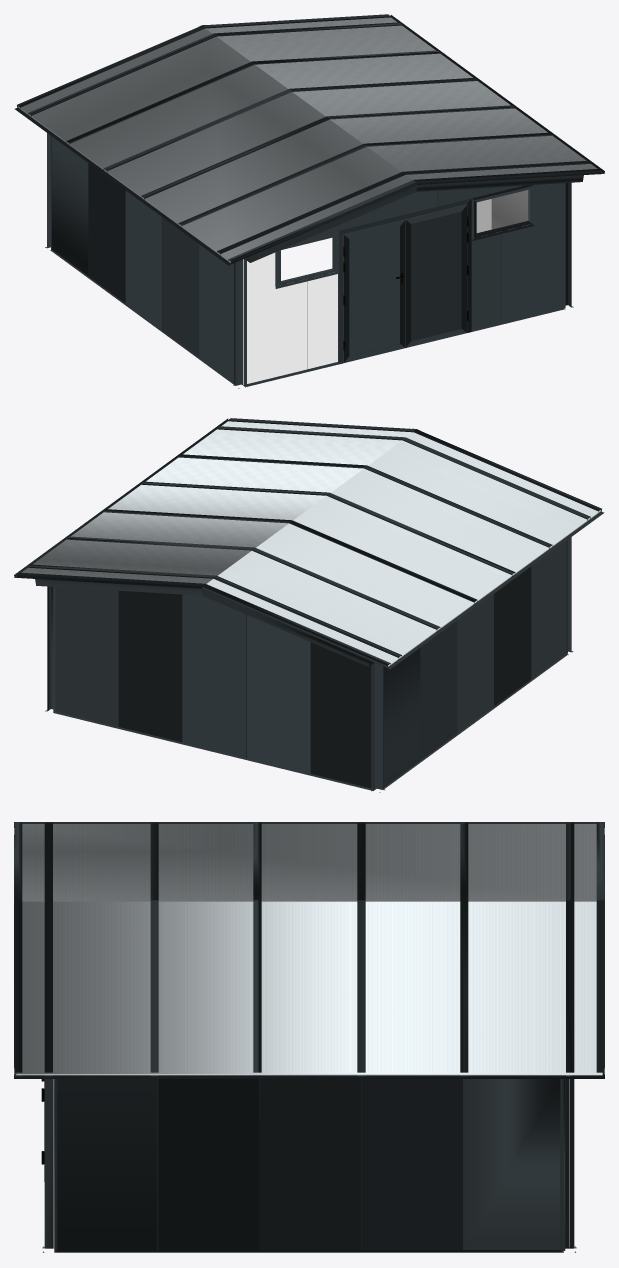
3 views of the same model, one above another, from view 1: azimuth 30°, elevation 25°; view 2: azimuth 150°, elevation 25°; view 3: azimuth 270°, elevation 25° (orthographic). The views are drawn at different scales.
Parts seen in each view (by area): view 1: priximbattable_net_abris_de_jardin_640007_abri_de_jardin_lav, folha_2, folha, porta_avec_hublot_1; view 2: priximbattable_net_abris_de_jardin_640007_abri_de_jardin_lav; view 3: priximbattable_net_abris_de_jardin_640007_abri_de_jardin_lav.
Part boxes in pixels (x1,y1,x2,y2): priximbattable_net_abris_de_jardin_640007_abri_de_jardin_lav: (15, 14, 604, 388); folha_2: (343, 219, 405, 362); folha: (405, 204, 468, 347); porta_avec_hublot_1: (338, 198, 471, 364); priximbattable_net_abris_de_jardin_640007_abri_de_jardin_lav: (14, 418, 604, 792); priximbattable_net_abris_de_jardin_640007_abri_de_jardin_lav: (14, 822, 604, 1252).
Size of the model in its own units: 589 by 261 by 580.
Materials: 1 (1 with a texture image).
